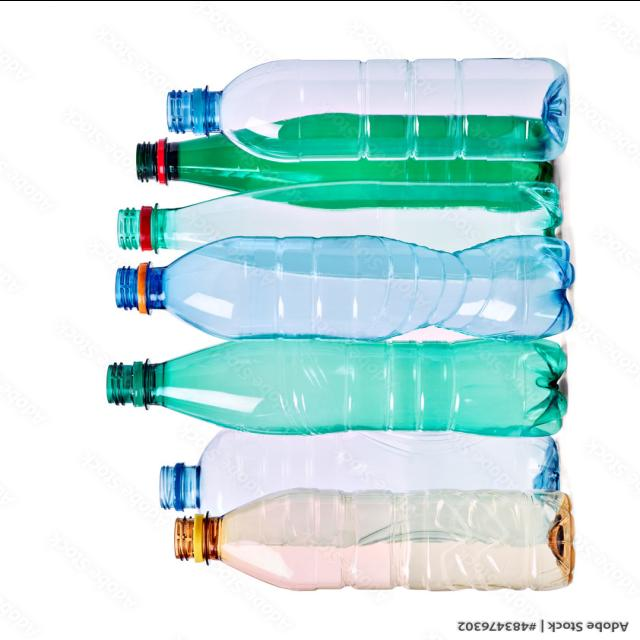bottom: (510, 230, 576, 338), (507, 339, 574, 445), (513, 50, 574, 166), (487, 110, 551, 214), (532, 486, 577, 592), (504, 425, 566, 494), (504, 178, 571, 233)
no_cap: (98, 356, 170, 410), (147, 457, 212, 516), (152, 87, 223, 135), (120, 140, 194, 185), (171, 512, 227, 571), (111, 259, 159, 317), (115, 198, 162, 253)
